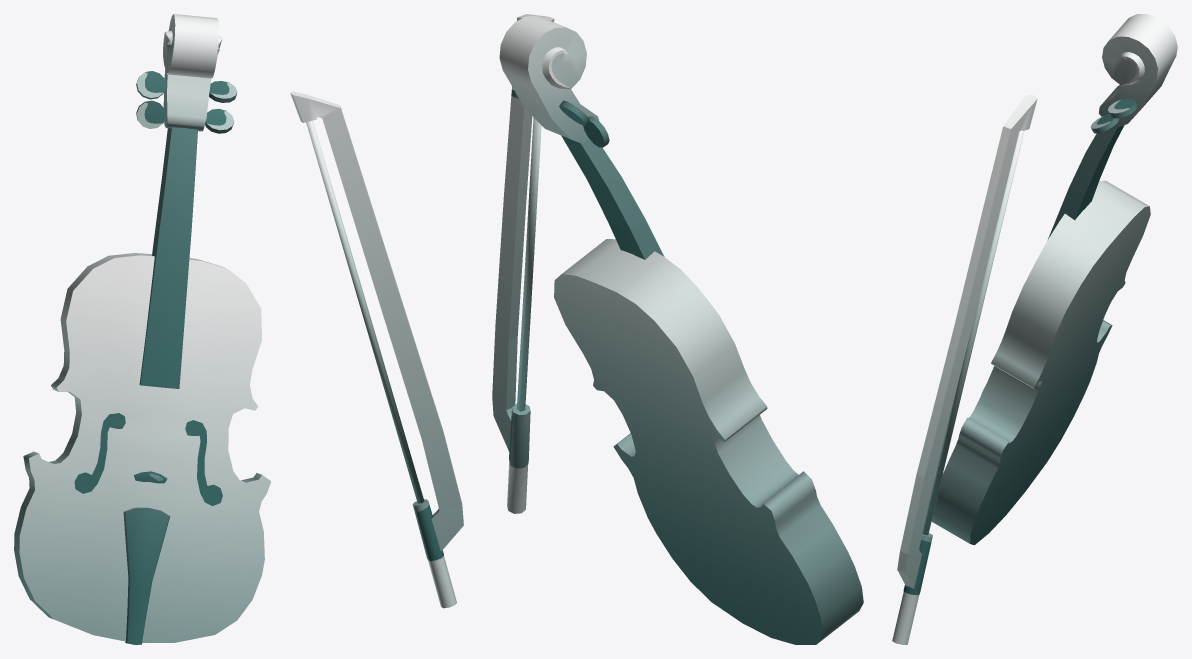
The model's file is Cello.fbx.
The picture shows the model from 3 angles, left to right: view 1: azimuth 30°, elevation 25°; view 2: azimuth 150°, elevation 25°; view 3: azimuth 270°, elevation 25°; orthographic projection. The views are drawn at different scales.
Visible parts, largest first — view 1: CelloMesh; view 2: CelloMesh; view 3: CelloMesh.
Part boxes in pixels (x1,y1,x2,y2): CelloMesh: (14,14,463,644); CelloMesh: (492,14,863,644); CelloMesh: (892,14,1177,644).
Size of the model in its own units: 16.06 by 22.21 by 10.25.
